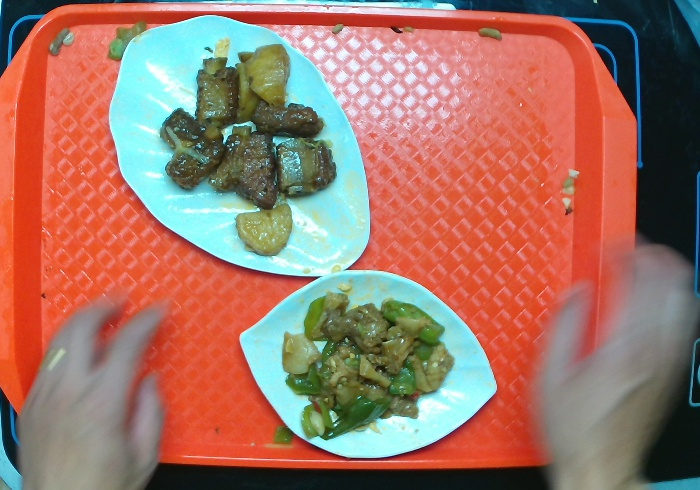RJxy-Bai_Ye_Pan: (107, 13, 372, 278)
RJxy-Da_Du_Pan: (237, 267, 499, 461)
